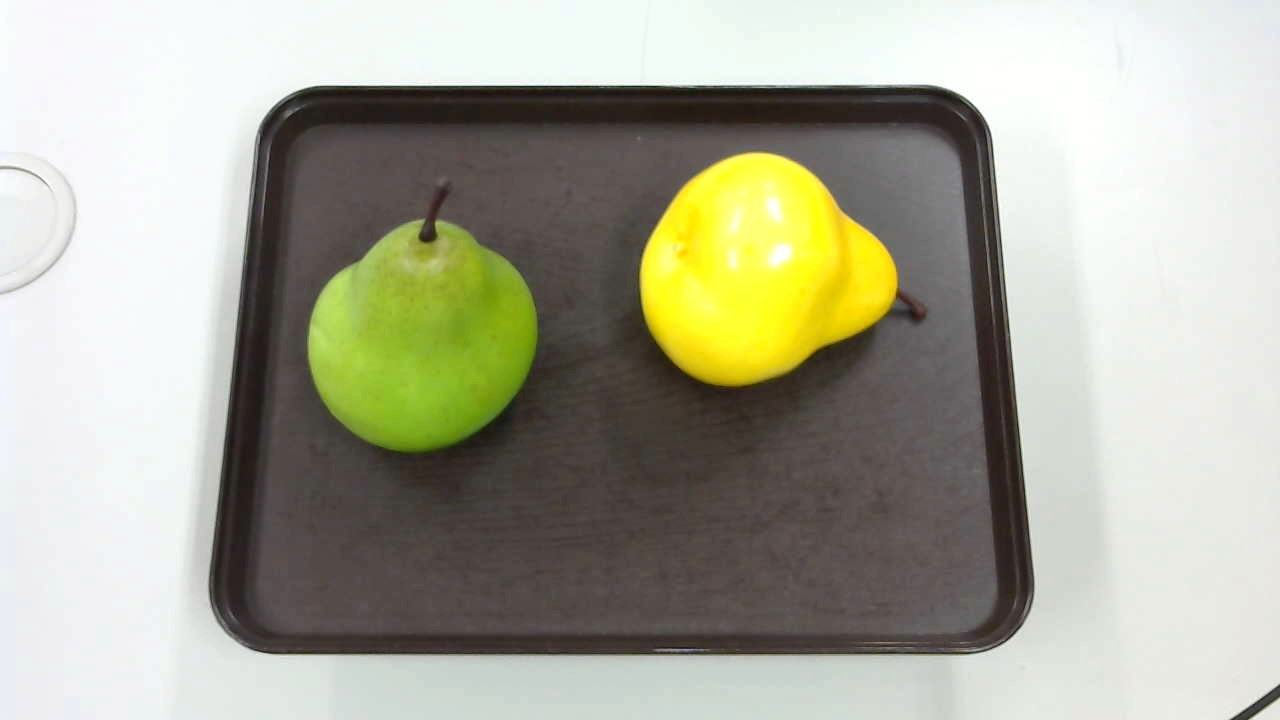green pear: (300, 176, 540, 451)
yellow pear: (638, 144, 926, 395)
